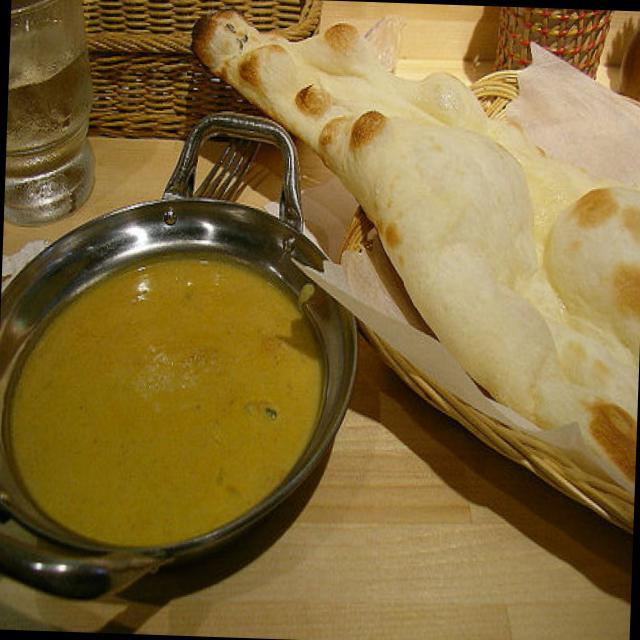Beef Curry: (21, 248, 311, 520)
